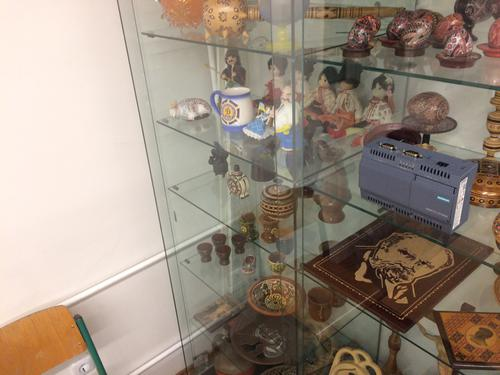iot2000: (358, 136, 480, 237)
